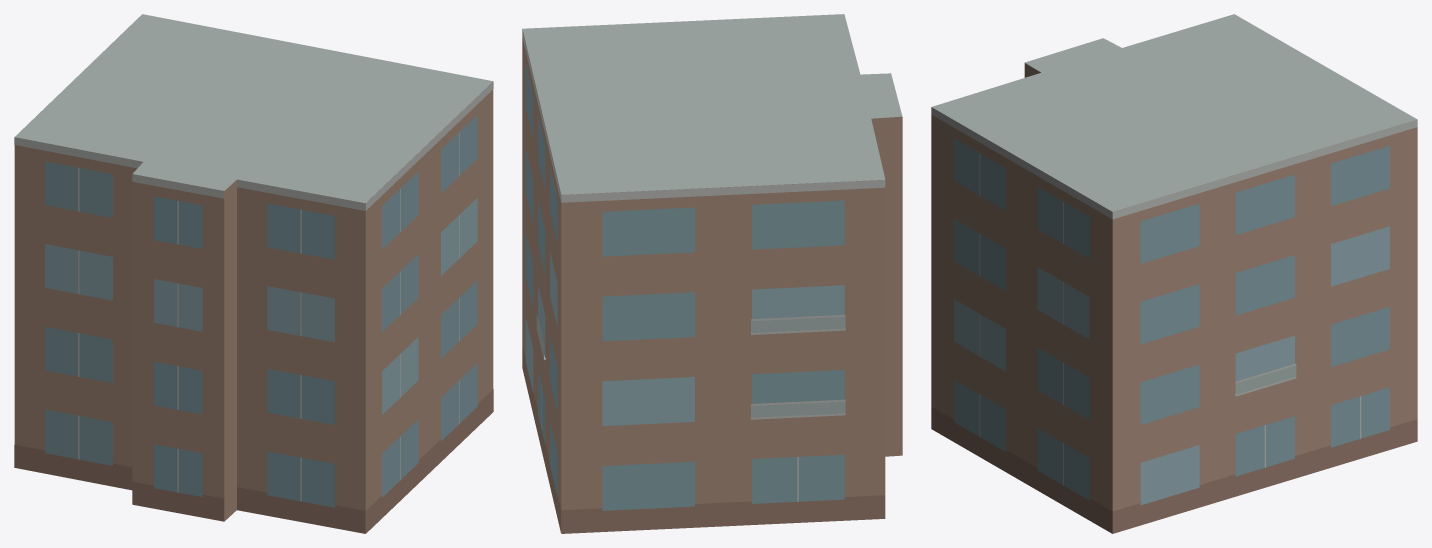
Rendered from survey-upis-32918802.glb.
3 views of the same model, side by side, from view 1: azimuth 30°, elevation 25°; view 2: azimuth 150°, elevation 25°; view 3: azimuth 270°, elevation 25° (orthographic). The views are drawn at different scales.
Parts seen in each view (by area): view 1: survey-upis-32918802.tmp; view 2: survey-upis-32918802.tmp; view 3: survey-upis-32918802.tmp.
Part boxes in pixels (bbox=[...]): survey-upis-32918802.tmp: bbox=[14, 14, 493, 533]; survey-upis-32918802.tmp: bbox=[522, 14, 902, 533]; survey-upis-32918802.tmp: bbox=[931, 14, 1417, 533].
Size of the model in its own units: 13.72 by 10.4 by 14.25.
